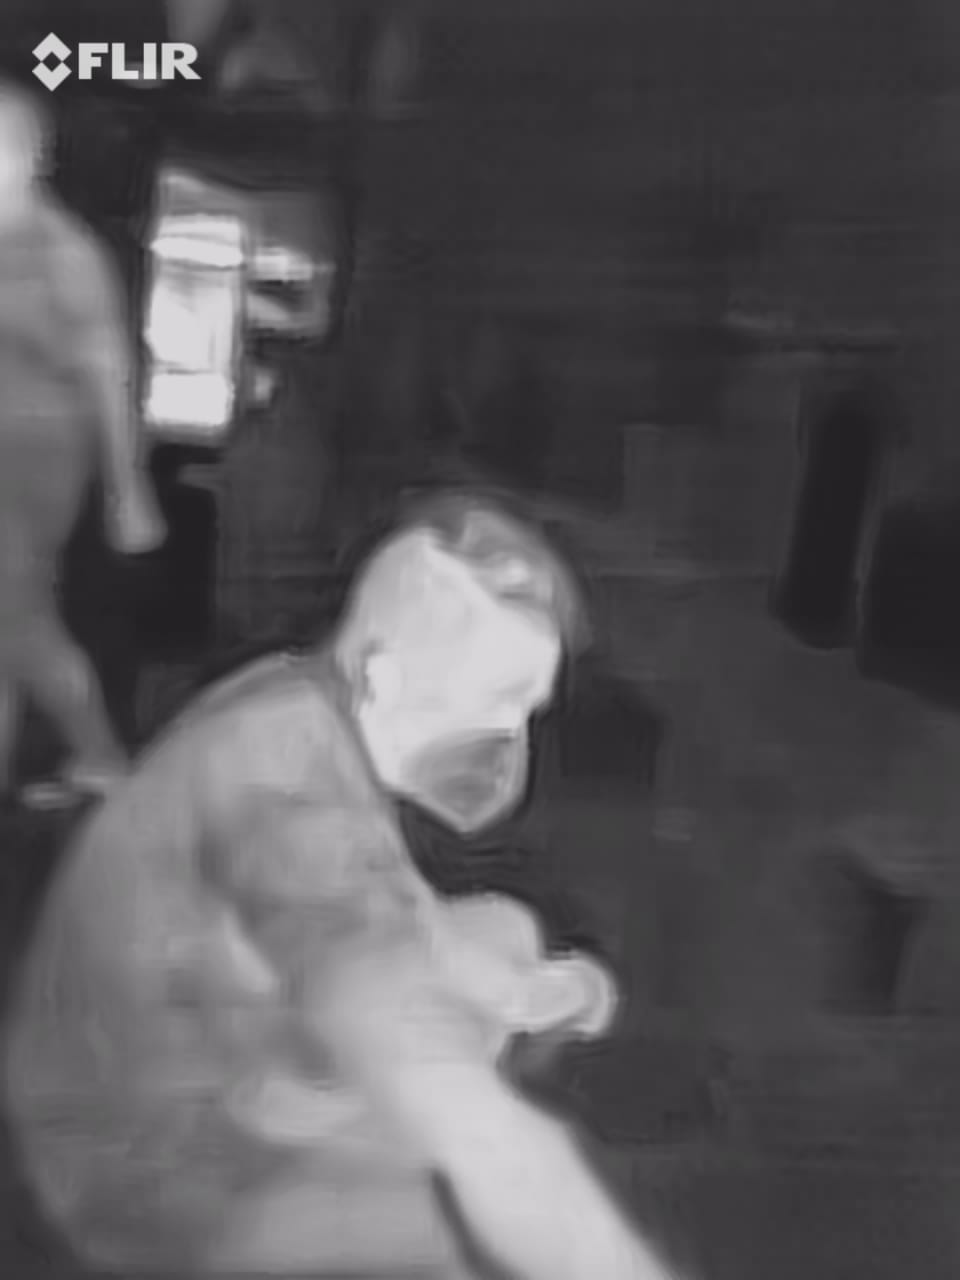head: (318, 468, 614, 863)
